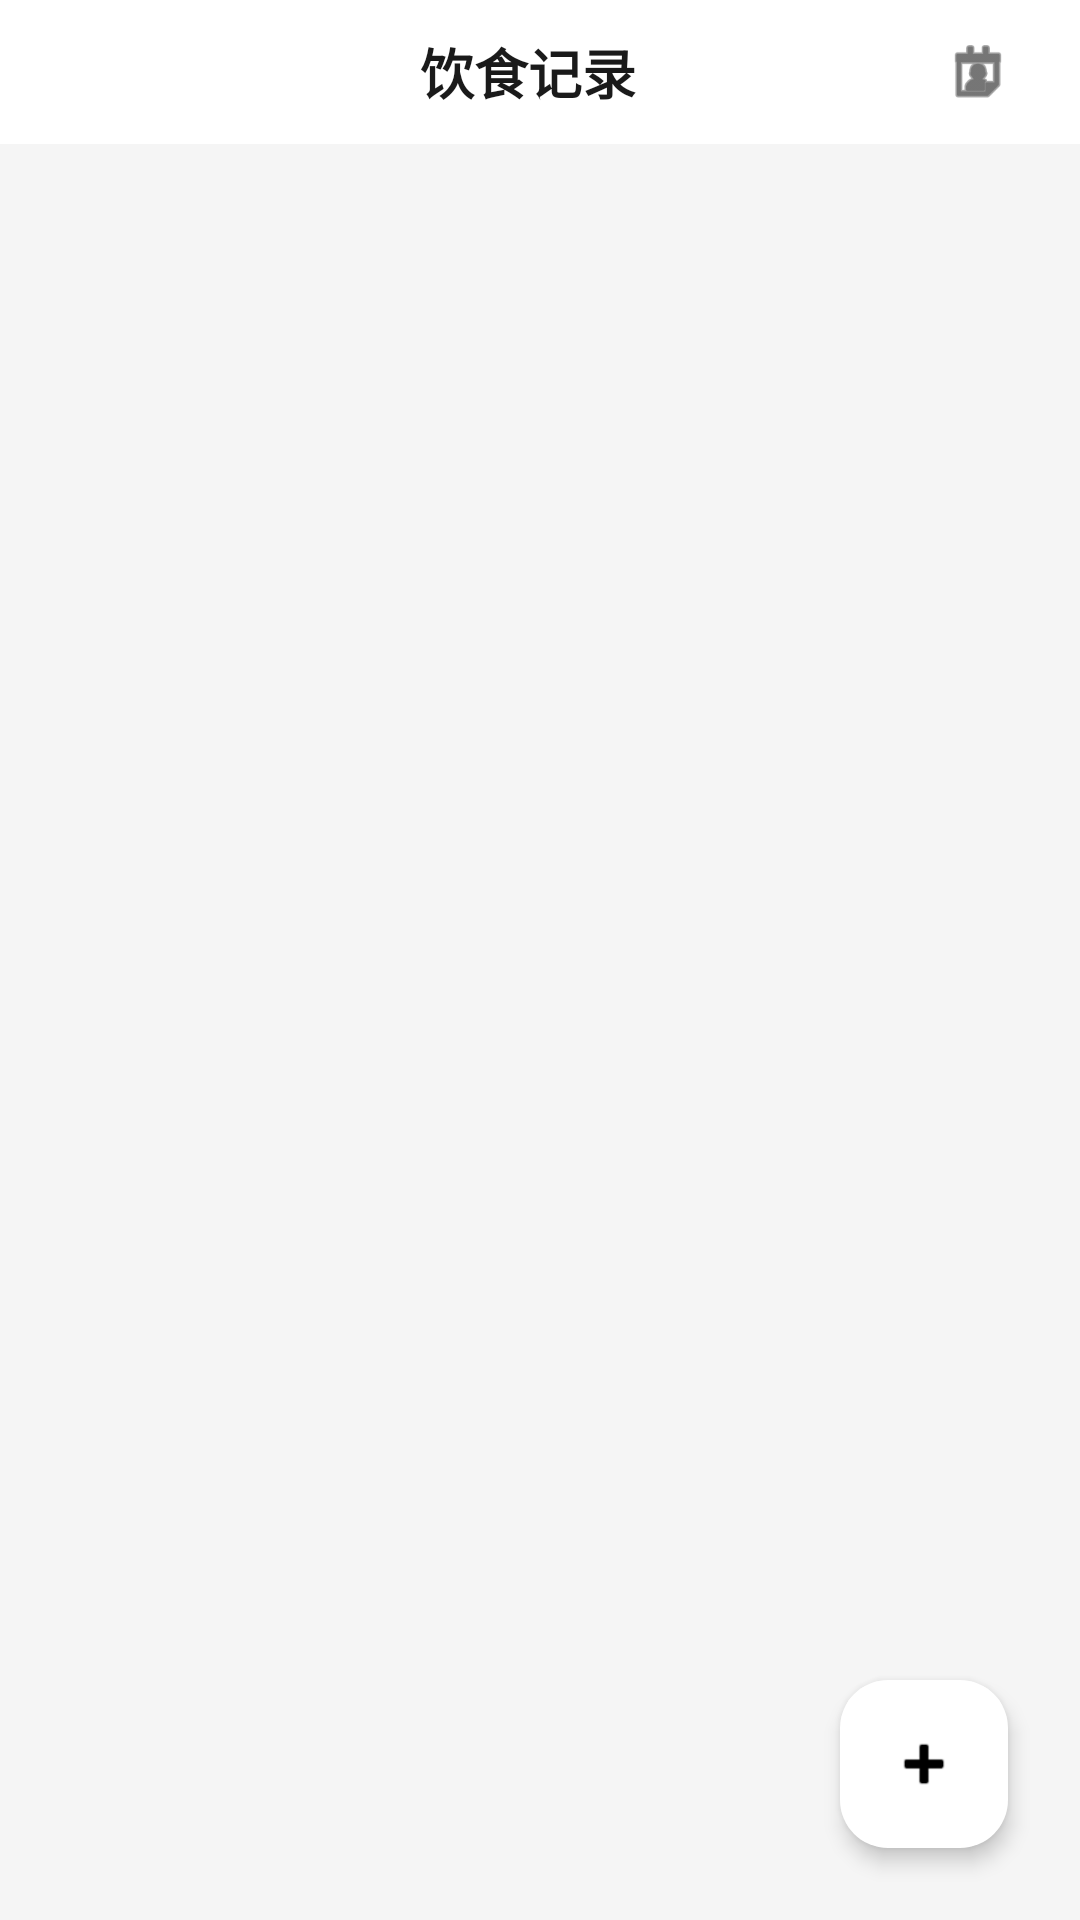

Named icons in this screenshot (1080x1920) and their bounding boxes, BBox(x1, y1, x2, y2):
日历: BBox(955, 45, 1001, 98)
添加饮食: BBox(840, 1680, 1008, 1848)
